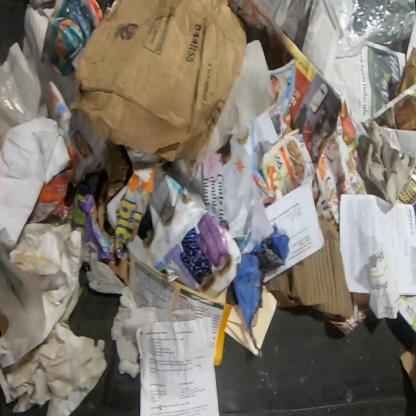cardboard: (67, 0, 248, 177), (262, 218, 352, 323), (398, 339, 415, 396)
soft_plastic: (329, 0, 416, 60), (0, 69, 33, 153)
